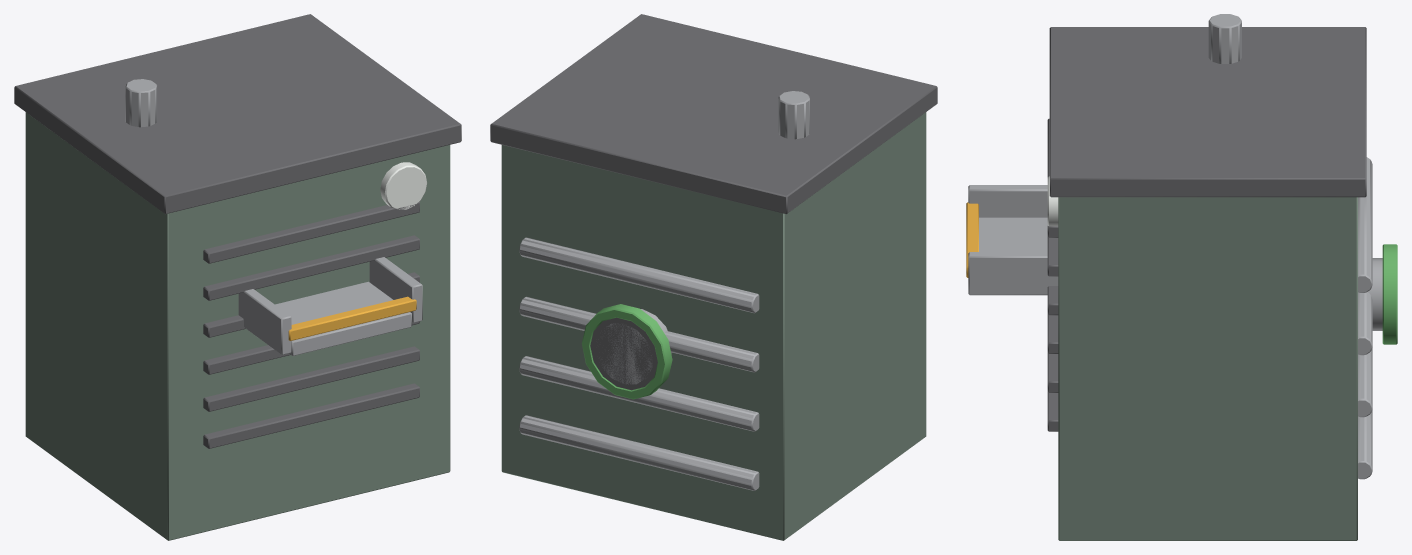
The model's file is feSteamDryer.fbx.
3 renders of one model, left to right at view 1: azimuth 30°, elevation 25°; view 2: azimuth 150°, elevation 25°; view 3: azimuth 270°, elevation 25°, orthographic. The views are drawn at different scales.
Visible parts, largest first — view 1: feSteamDryer_Base; view 2: feSteamDryer_Base; view 3: feSteamDryer_Base.
Boxes of the visible parts, x1,y1,x2,y2 form: feSteamDryer_Base: [14, 14, 461, 540]; feSteamDryer_Base: [490, 14, 937, 540]; feSteamDryer_Base: [966, 14, 1397, 540].
Size of the model in its own units: 0.84 by 1.04 by 1.01.
